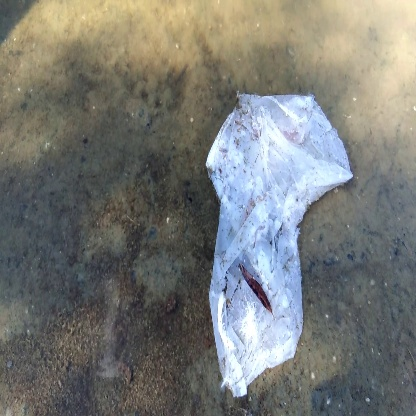plastic-bag: (205, 91, 358, 394)
